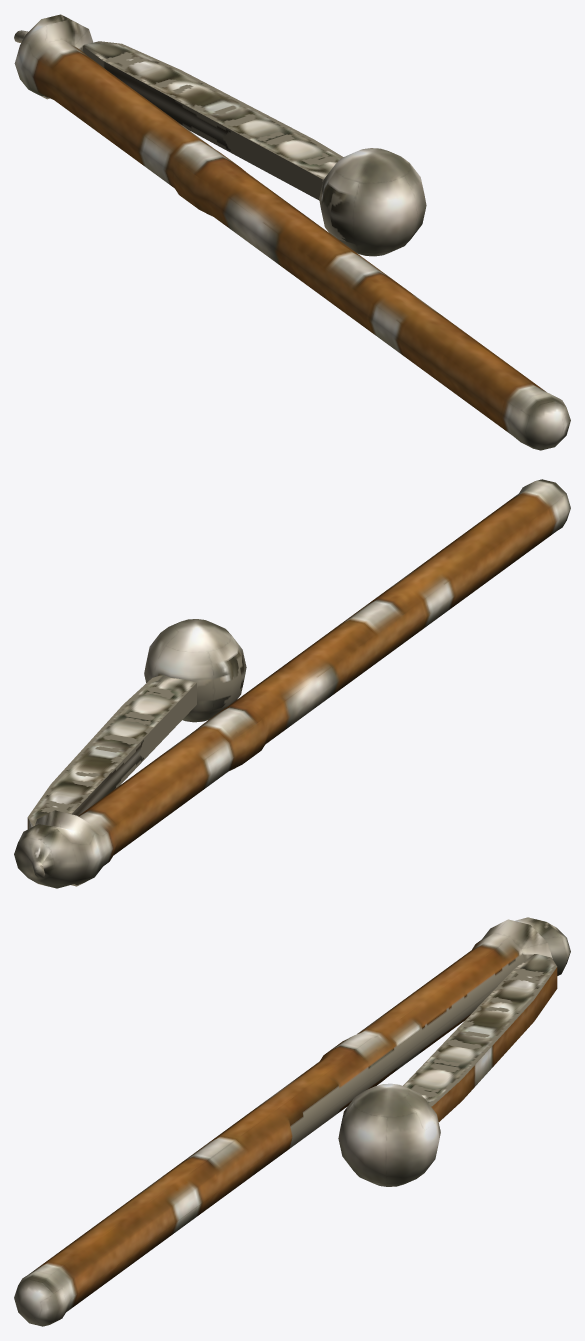
Rendered from item_mm9_10073.glb.
3 renders of one model, top to bottom at view 1: azimuth 30°, elevation 25°; view 2: azimuth 150°, elevation 25°; view 3: azimuth 330°, elevation 25°, orthographic. The views are drawn at different scales.
Visible parts, largest first — view 1: d10073; view 2: d10073; view 3: d10073.
Part boxes in pixels (x1,y1,x2,y2): d10073: (14,14,570,450); d10073: (14,479,570,888); d10073: (14,917,570,1326).
Size of the model in its own units: 27.08 by 14.77 by 146.
Materials: 1 (1 with a texture image).
